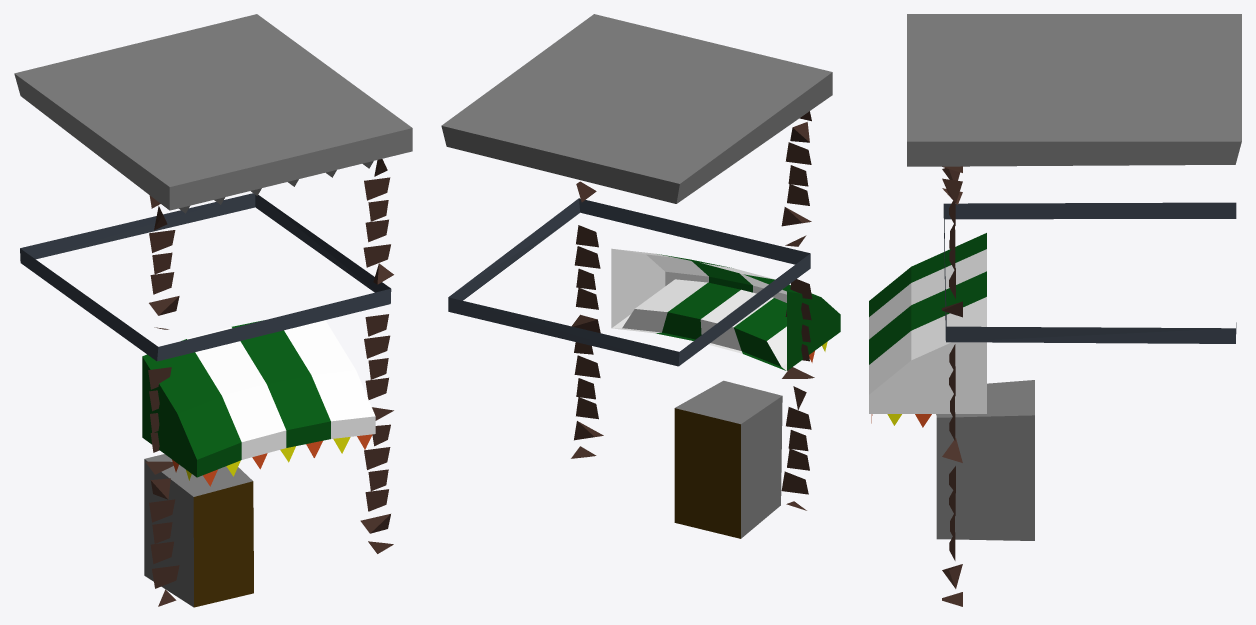
The model's file is PredioGenerico1AzulLOD2.fbx.
The picture shows the model from 3 angles, left to right: view 1: azimuth 30°, elevation 25°; view 2: azimuth 150°, elevation 25°; view 3: azimuth 270°, elevation 25°; orthographic projection. The views are drawn at different scales.
Visible parts, largest first — view 1: LojaGenericaLOD2, ToldoLOD1.002; view 2: LojaGenericaLOD2, ToldoLOD1.002; view 3: LojaGenericaLOD2, ToldoLOD1.002.
Part boxes in pixels (left/top/right/bottom): LojaGenericaLOD2: left=14, top=14, right=412, bottom=607; ToldoLOD1.002: left=142, top=320, right=375, bottom=477; LojaGenericaLOD2: left=441, top=14, right=832, bottom=538; ToldoLOD1.002: left=611, top=248, right=840, bottom=370; LojaGenericaLOD2: left=871, top=14, right=1241, bottom=606; ToldoLOD1.002: left=869, top=233, right=986, bottom=413.
Bounding box in the file's own units: 403 × 699 × 498.
